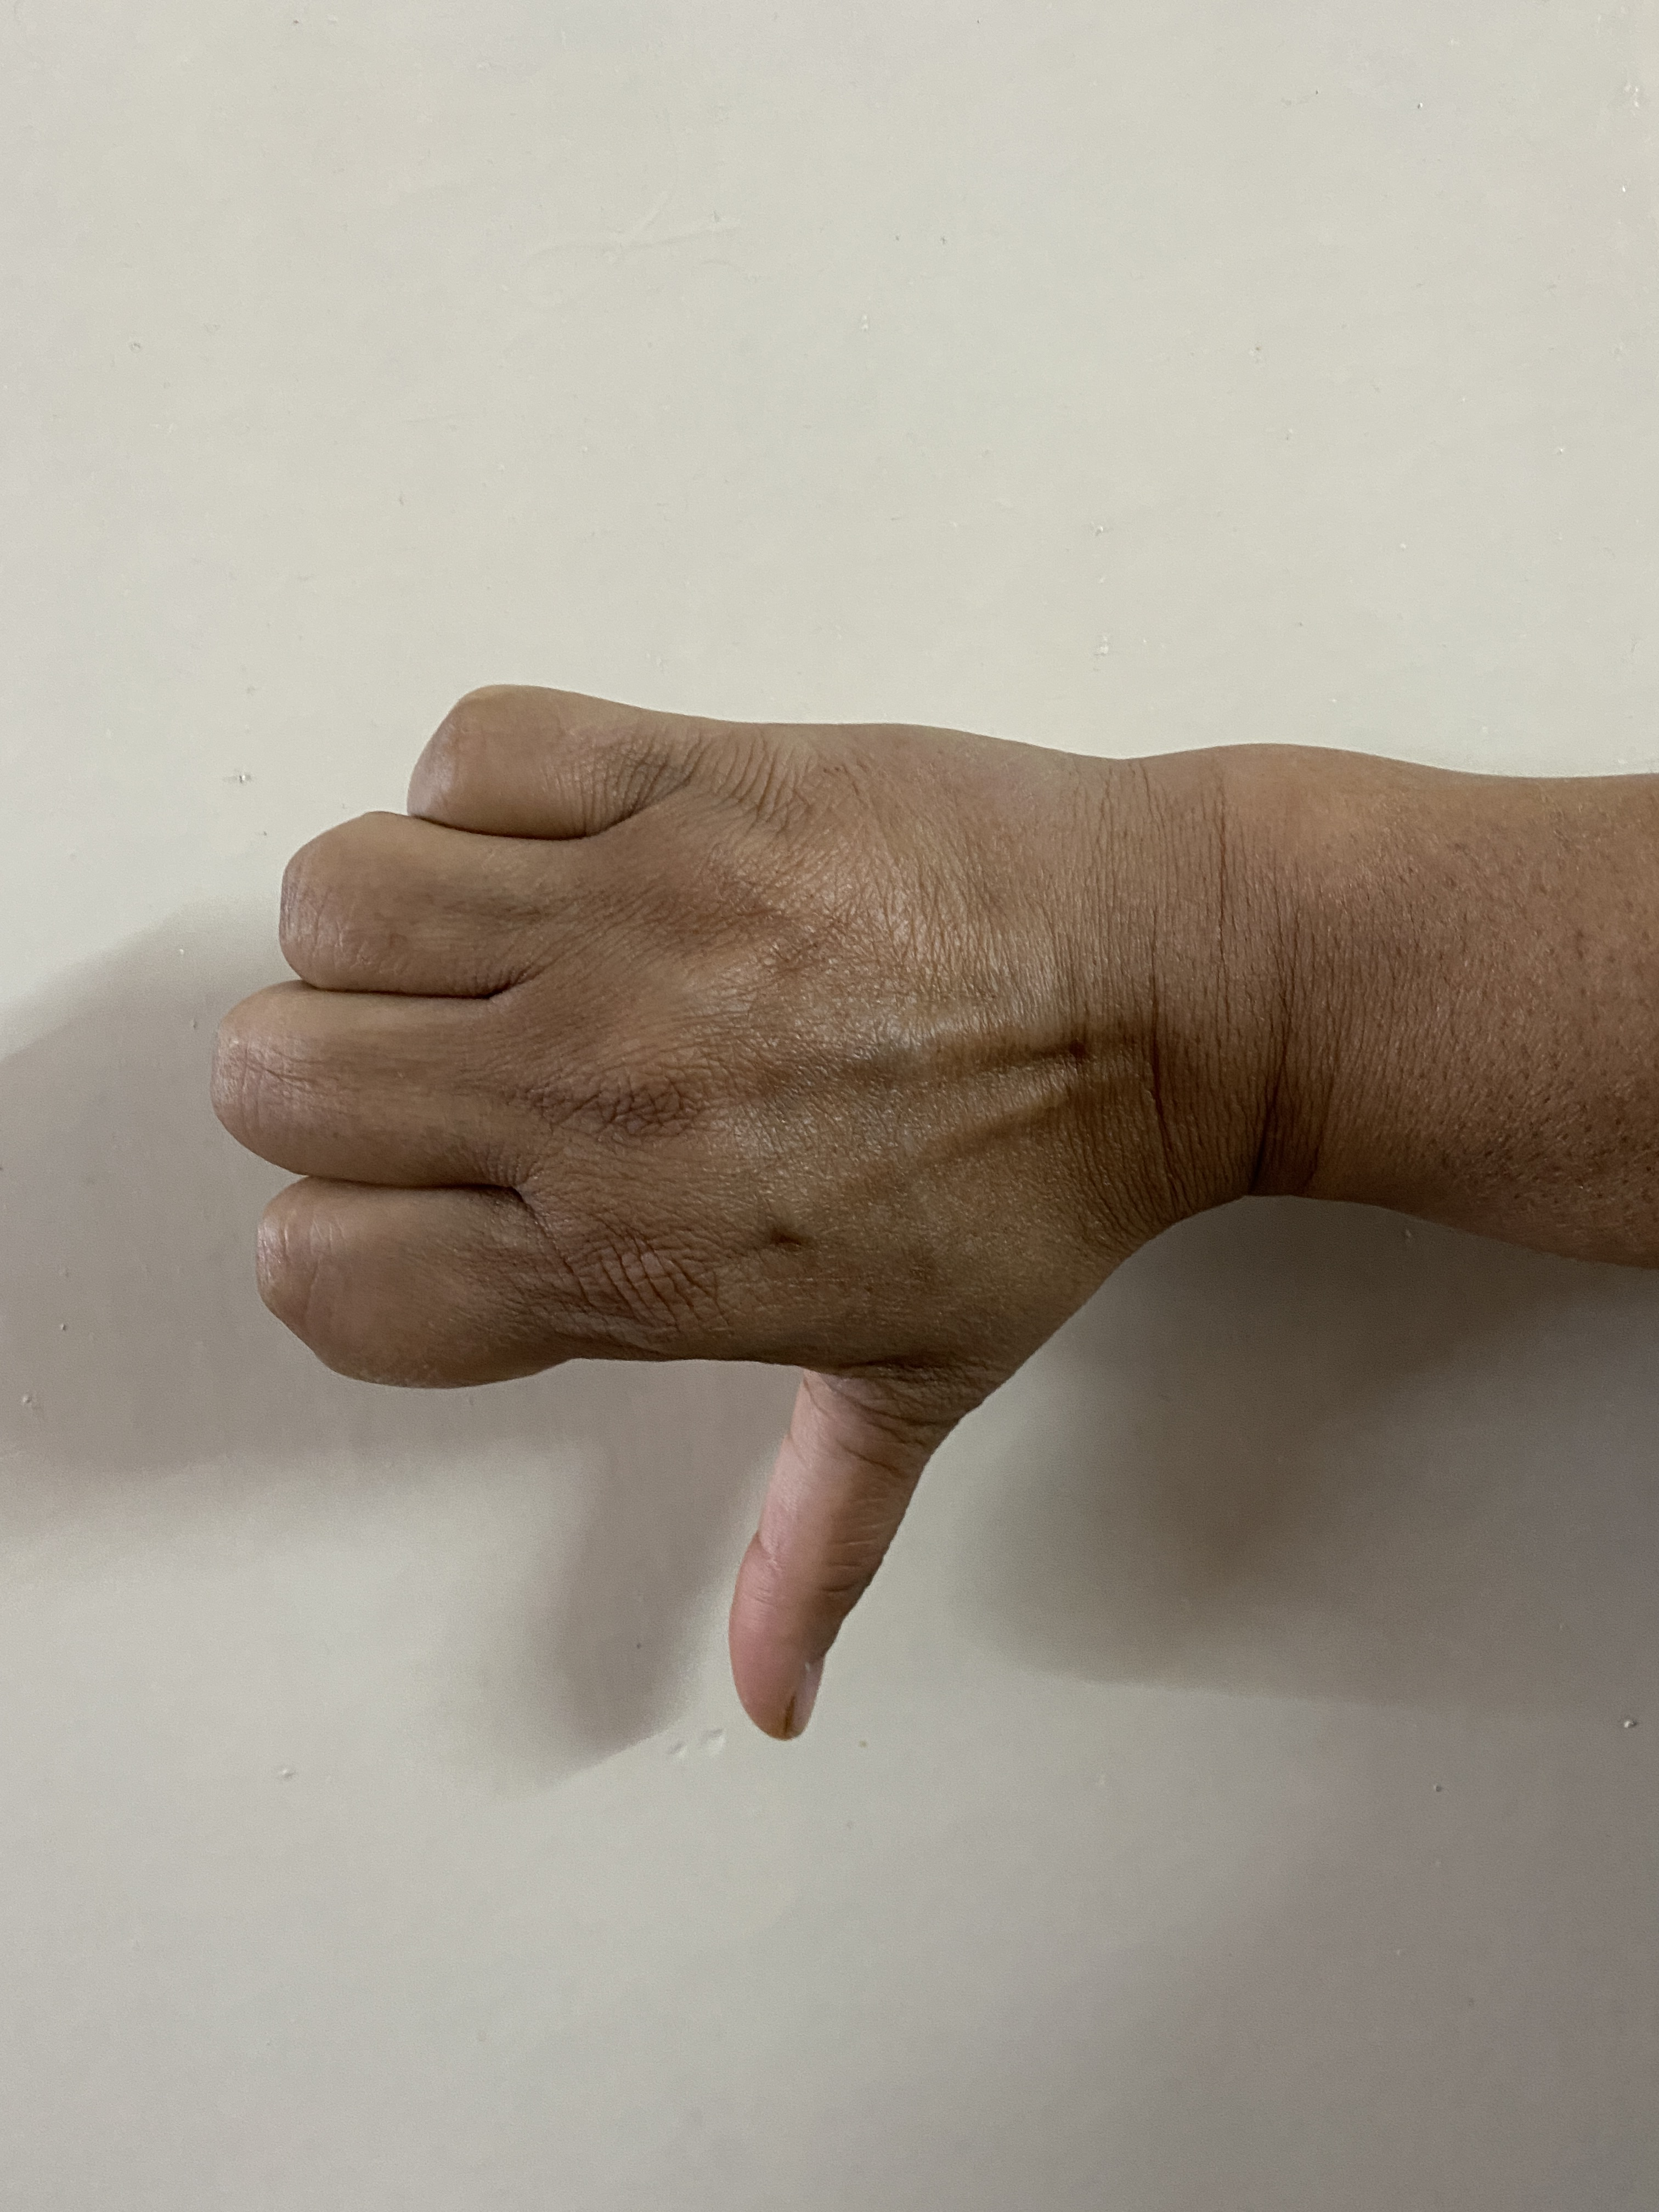down: (138, 592, 1659, 1773)
